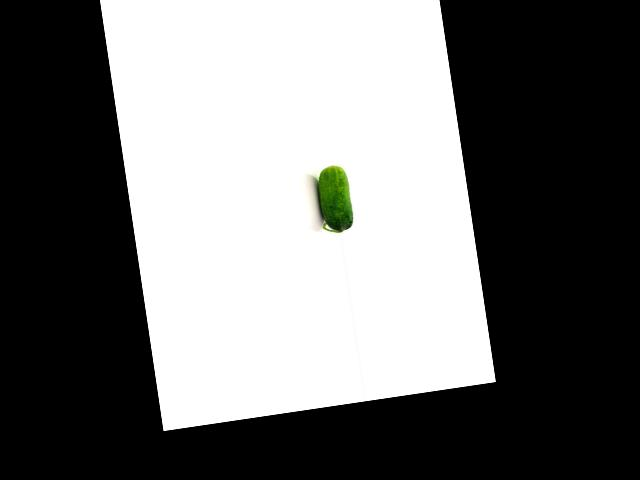cucumber: (313, 162, 355, 234)
